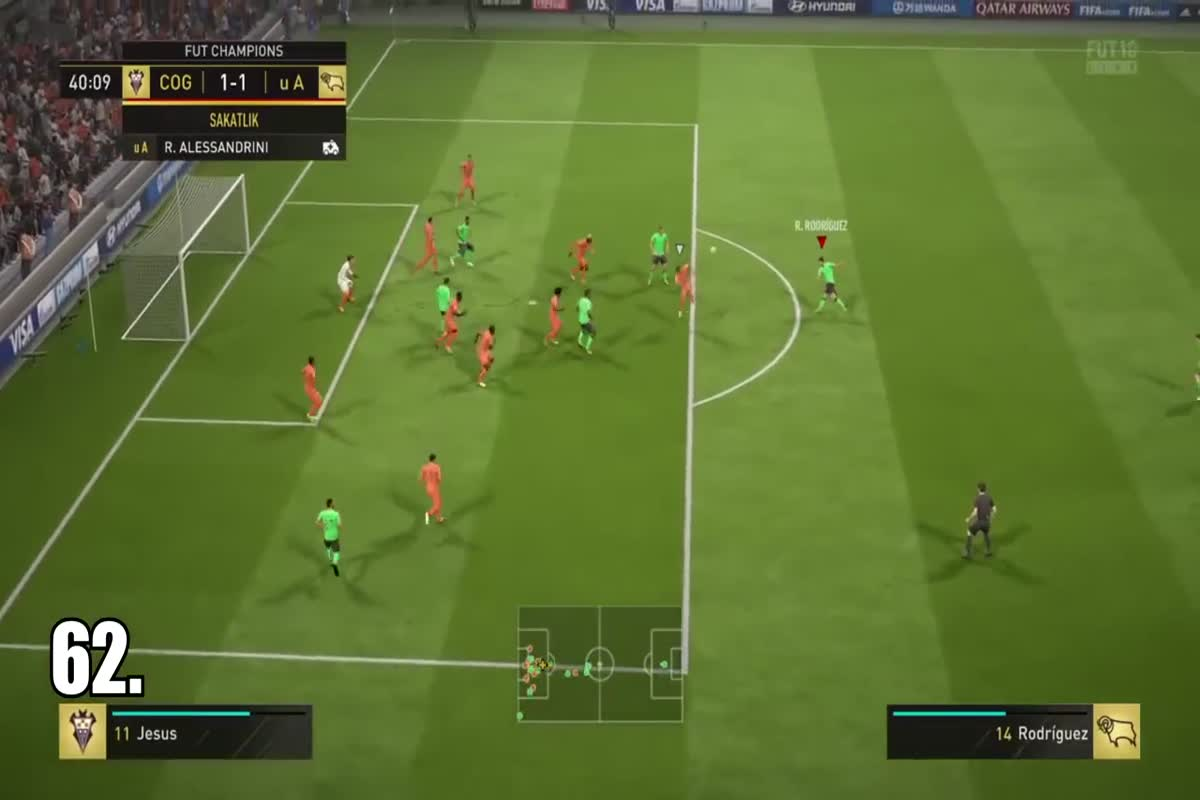ball: (704, 239, 725, 260)
